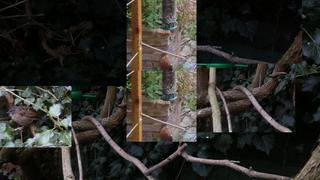dunnock: (5, 106, 52, 132)
